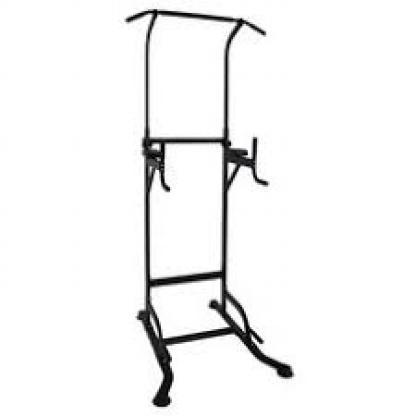chinning dipping: (124, 8, 296, 407)
